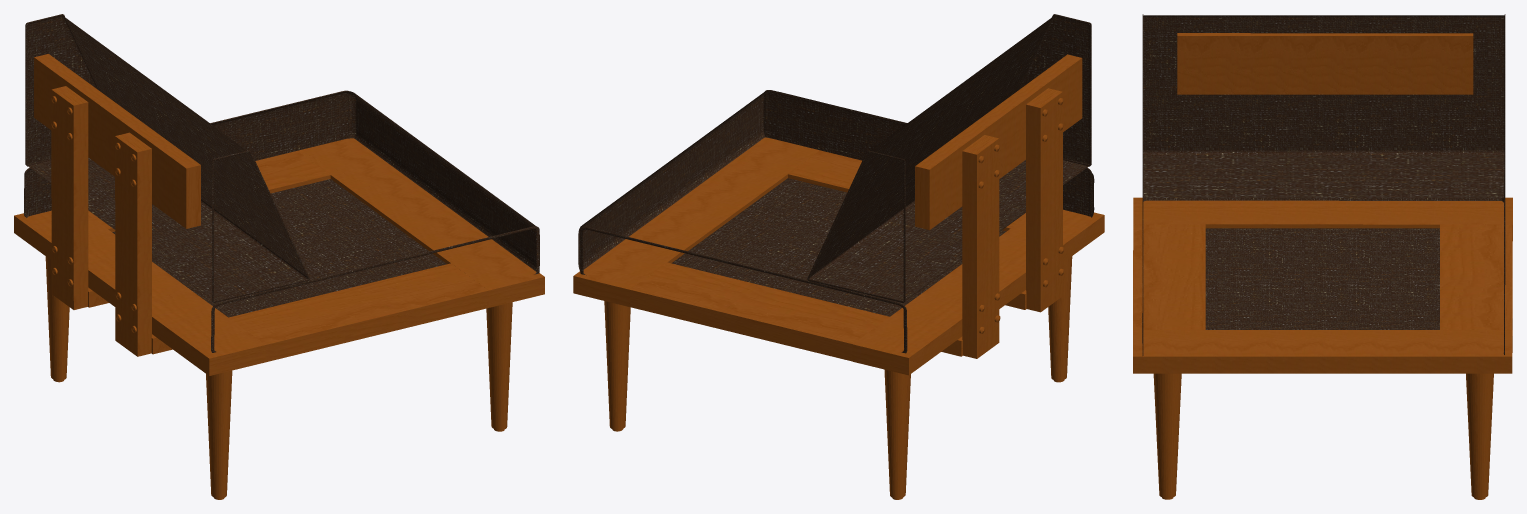
Rendered from Chair2git.glb.
3 renders of one model, left to right at view 1: azimuth 30°, elevation 25°; view 2: azimuth 150°, elevation 25°; view 3: azimuth 270°, elevation 25°, orthographic. The views are drawn at different scales.
Visible parts, largest first — view 1: Cylinder.068, Cylinder.005; view 2: Cylinder.068, Cylinder.005; view 3: Cylinder.005, Cylinder.068.
Boxes of the visible parts, x1=… form: Cylinder.068: x1=14, y1=54, x2=544, y2=499; Cylinder.005: x1=23, y1=14, x2=539, y2=352; Cylinder.068: x1=573, y1=54, x2=1104, y2=499; Cylinder.005: x1=578, y1=14, x2=1094, y2=353; Cylinder.005: x1=1142, y1=14, x2=1505, y2=355; Cylinder.068: x1=1133, y1=33, x2=1512, y2=499.
Size of the model in its own units: 0.8023 by 0.7618 by 0.7665.
Materials: 2 (2 with a texture image).
